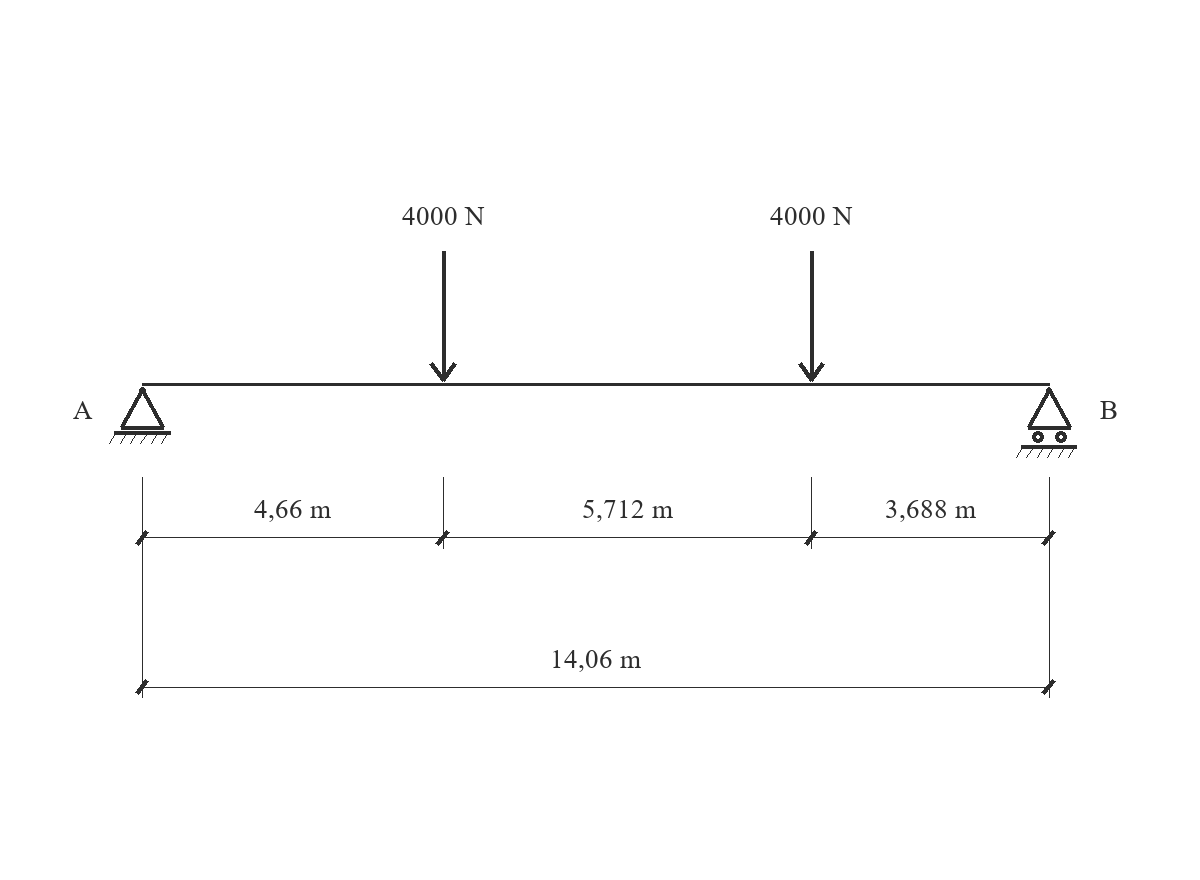pin_support: (109, 387, 171, 444)
point_load: (429, 251, 457, 382), (798, 251, 825, 382)
roller_support: (1016, 387, 1077, 458)
